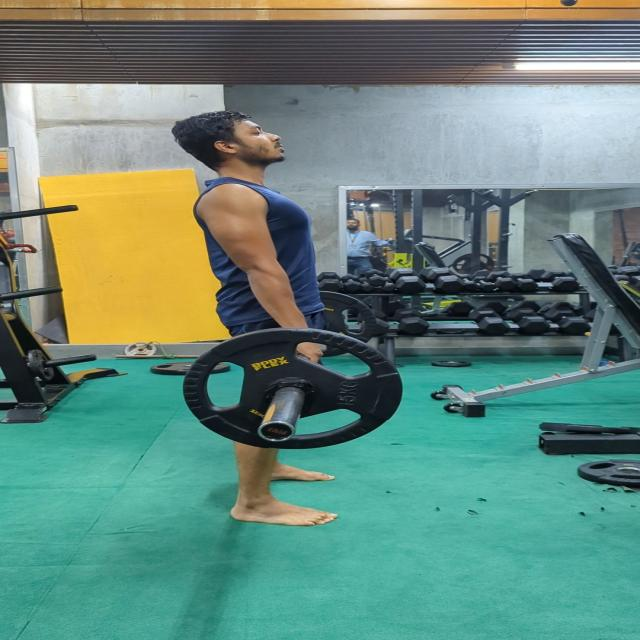Normal_Deadlifts: (167, 109, 349, 534)
